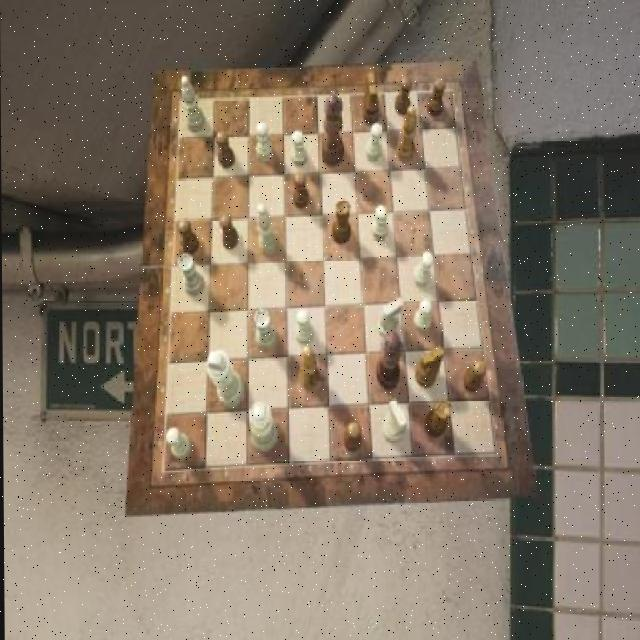bishop: (398, 105, 418, 162), (298, 346, 319, 390)
black-bishop: (376, 331, 402, 391)
black-king: (416, 346, 444, 388), (362, 74, 380, 126)
black-knight: (462, 360, 487, 392), (427, 78, 446, 117), (394, 77, 412, 117), (216, 131, 235, 168), (220, 214, 239, 250), (178, 219, 198, 253), (293, 171, 310, 208), (342, 422, 362, 452)
black-pawn: (321, 94, 344, 168)
black-queen: (424, 400, 452, 438), (332, 198, 352, 244)
black-rook: (181, 76, 206, 132), (257, 205, 278, 257)
white-bishop: (207, 351, 245, 408)
white-king: (378, 298, 403, 340), (383, 398, 407, 441)
white-knight: (166, 428, 190, 460), (412, 252, 433, 288), (256, 123, 273, 162), (365, 123, 382, 162), (296, 310, 313, 346), (414, 298, 432, 332), (372, 204, 389, 240), (290, 131, 306, 165)
white-pawn: (247, 401, 277, 454)
white-queen: (178, 254, 205, 296), (254, 309, 277, 351)
